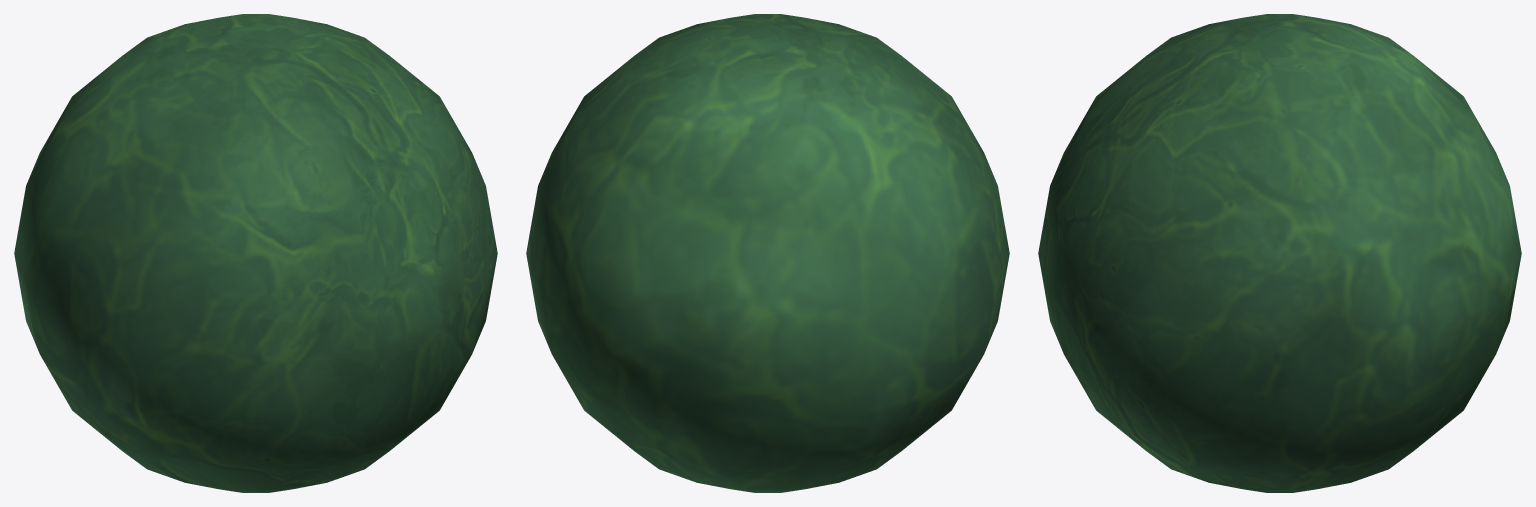
File: Planet_Kryptonite.fbx
3 renders of one model, left to right at view 1: azimuth 30°, elevation 25°; view 2: azimuth 150°, elevation 25°; view 3: azimuth 270°, elevation 25°, orthographic.
Parts seen in each view (by area): view 1: Planet_Kryptonite; view 2: Planet_Kryptonite; view 3: Planet_Kryptonite.
Part boxes in pixels (x1,y1,x2,y2): Planet_Kryptonite: (14, 14, 497, 492); Planet_Kryptonite: (526, 14, 1009, 492); Planet_Kryptonite: (1038, 14, 1521, 492).
Size of the model in its own units: 217 by 220 by 220.
